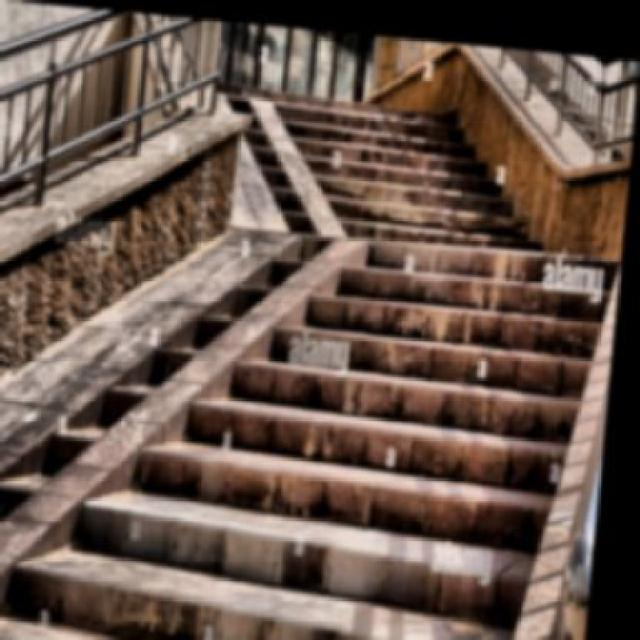stair: (32, 203, 620, 639), (273, 101, 542, 234)
